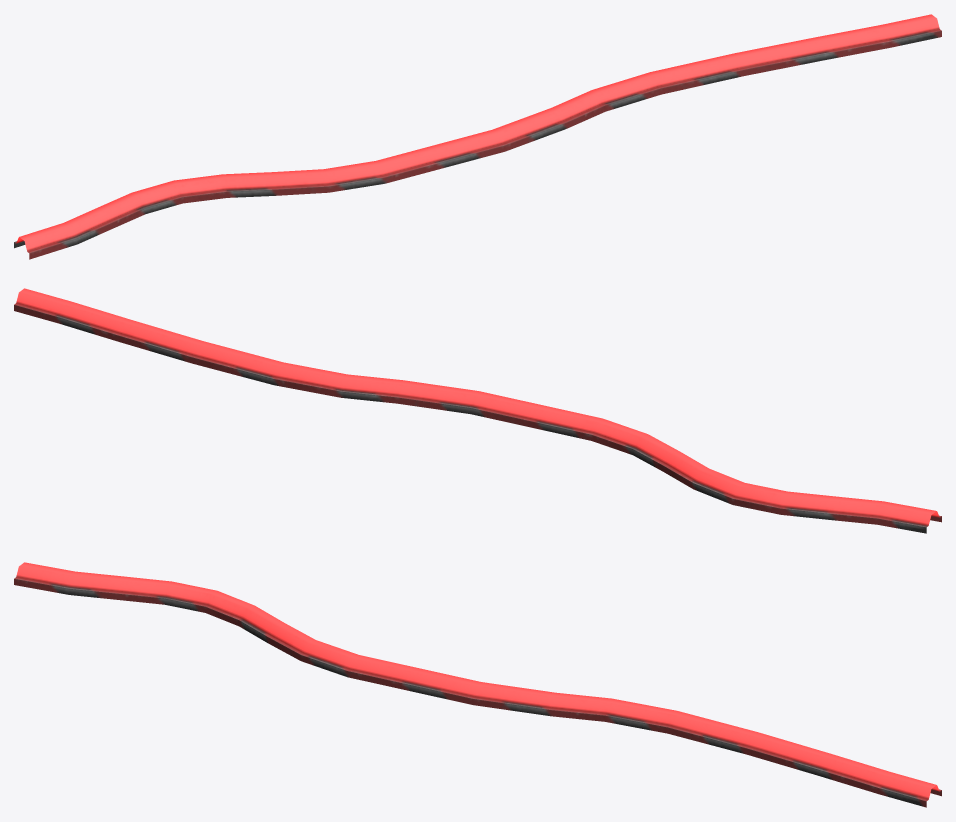
File: Way_L1.fbx
3 views of the same model, one above another, from view 1: azimuth 30°, elevation 25°; view 2: azimuth 150°, elevation 25°; view 3: azimuth 330°, elevation 25° (orthographic).
Visible parts, largest first — view 1: Way_L1; view 2: Way_L1; view 3: Way_L1.
Boxes of the visible parts, left/top/right/bottom form: Way_L1: left=14, top=14, right=941, bottom=259; Way_L1: left=14, top=288, right=941, bottom=533; Way_L1: left=14, top=562, right=941, bottom=807.
Bounding box in the file's own units: 8 × 0.1253 × 0.6947.
